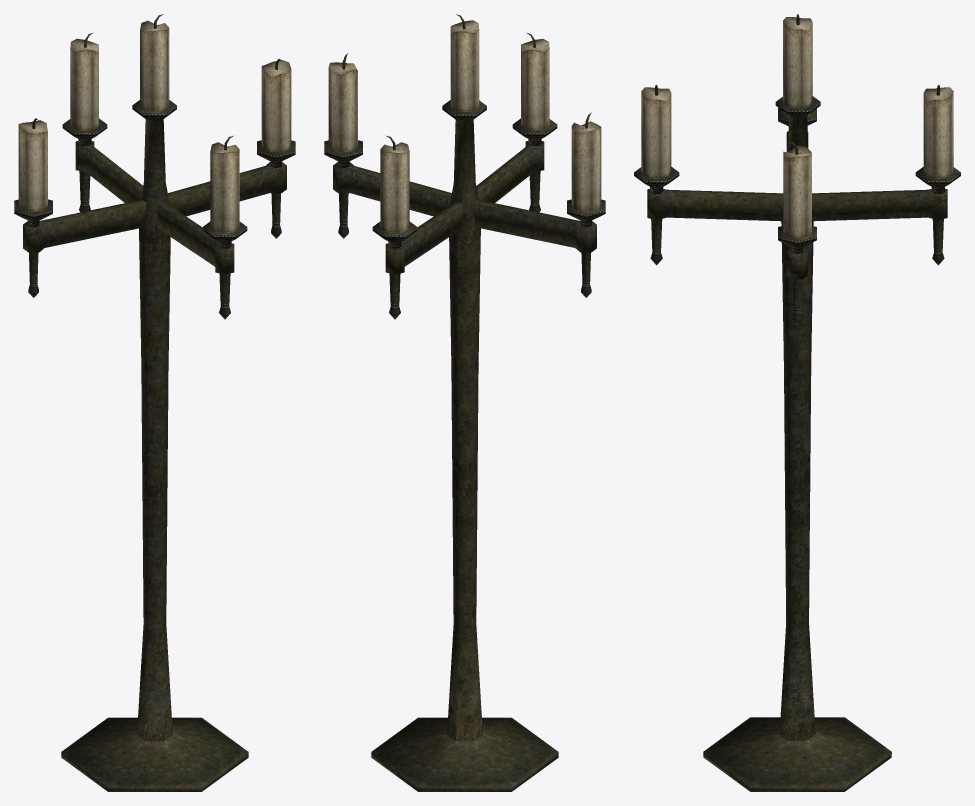
Rendered from KM_VOB_CANDLESTICK_02.glb.
3 renders of one model, left to right at view 1: azimuth 30°, elevation 25°; view 2: azimuth 150°, elevation 25°; view 3: azimuth 270°, elevation 25°, orthographic.
Parts seen in each view (by area): view 1: Mesh; view 2: Mesh; view 3: Mesh.
Part boxes in pixels (bbox=[...]): Mesh: bbox=[14, 14, 295, 791]; Mesh: bbox=[324, 14, 605, 791]; Mesh: bbox=[634, 14, 960, 791].
Bounding box in the file's own units: 0.5618 × 1.41 × 0.5618.
Materials: 3 (3 with a texture image).
